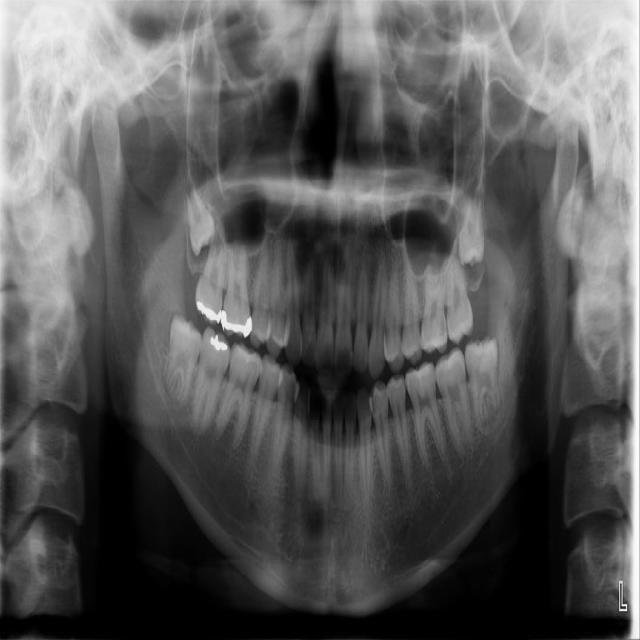Filling: (221, 310, 254, 335), (194, 301, 222, 325), (210, 336, 228, 351)
impacted tooth: (463, 336, 506, 436), (164, 315, 202, 407)
